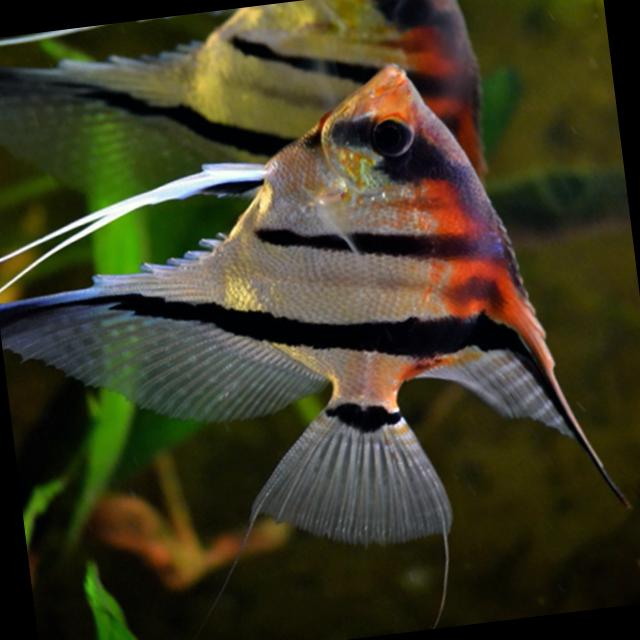AngelFish: (0, 54, 628, 594), (0, 0, 490, 240)
